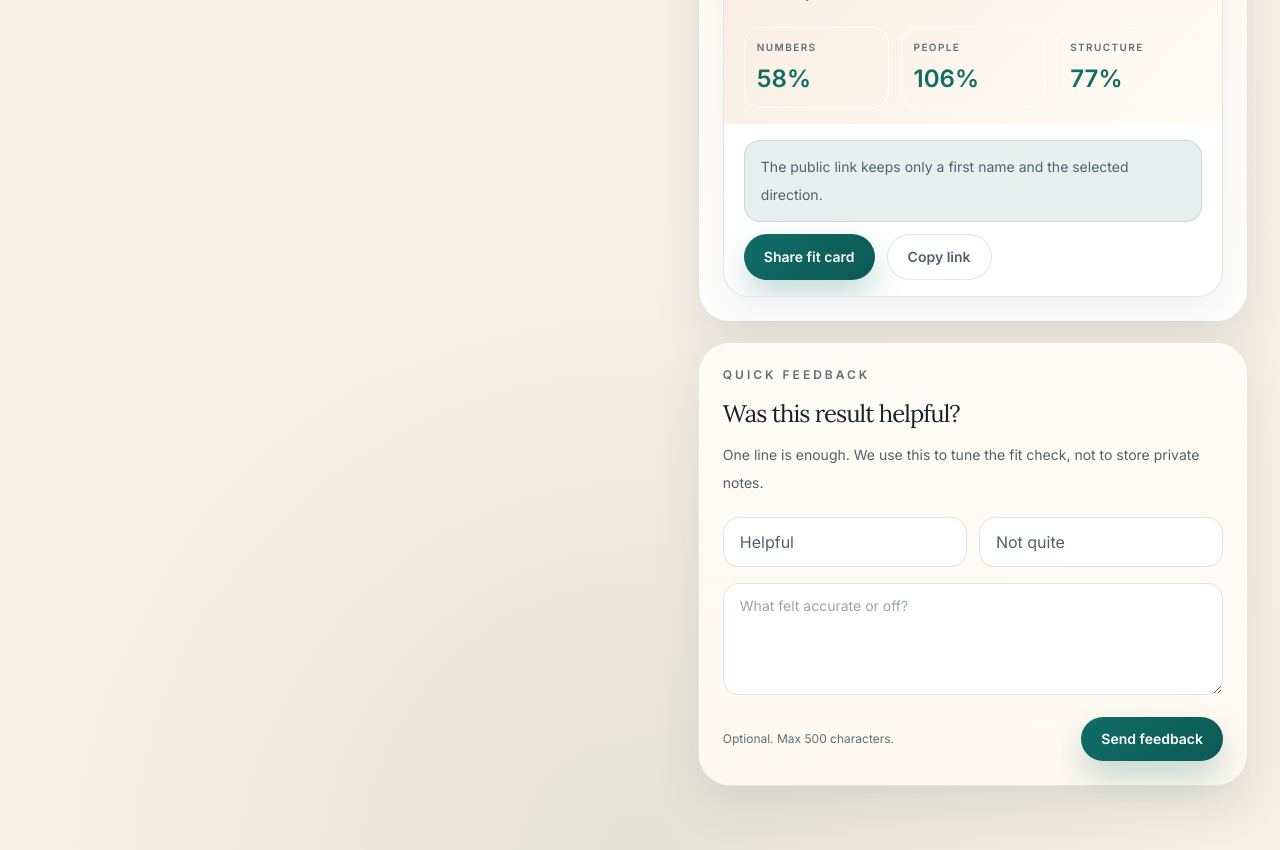
Results page feedback capture › captures a feedback response and reflects the saved choice
(page scrolled)
Click the button "Not quite".
click(1101, 542)  # box 979,517 -> 1223,567
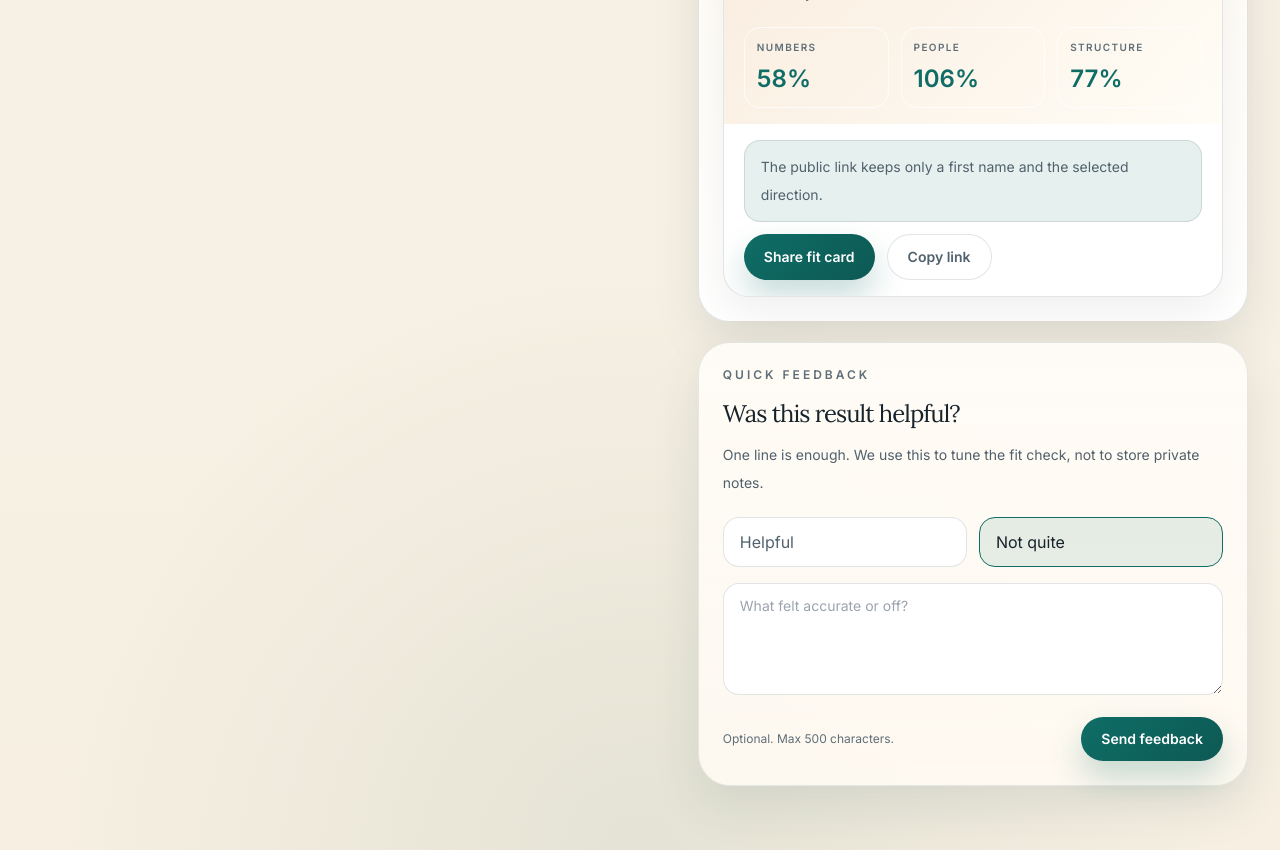
Click the button "Send feedback".
click(1152, 739)  # box 1081,717 -> 1223,761
(page scrolled)
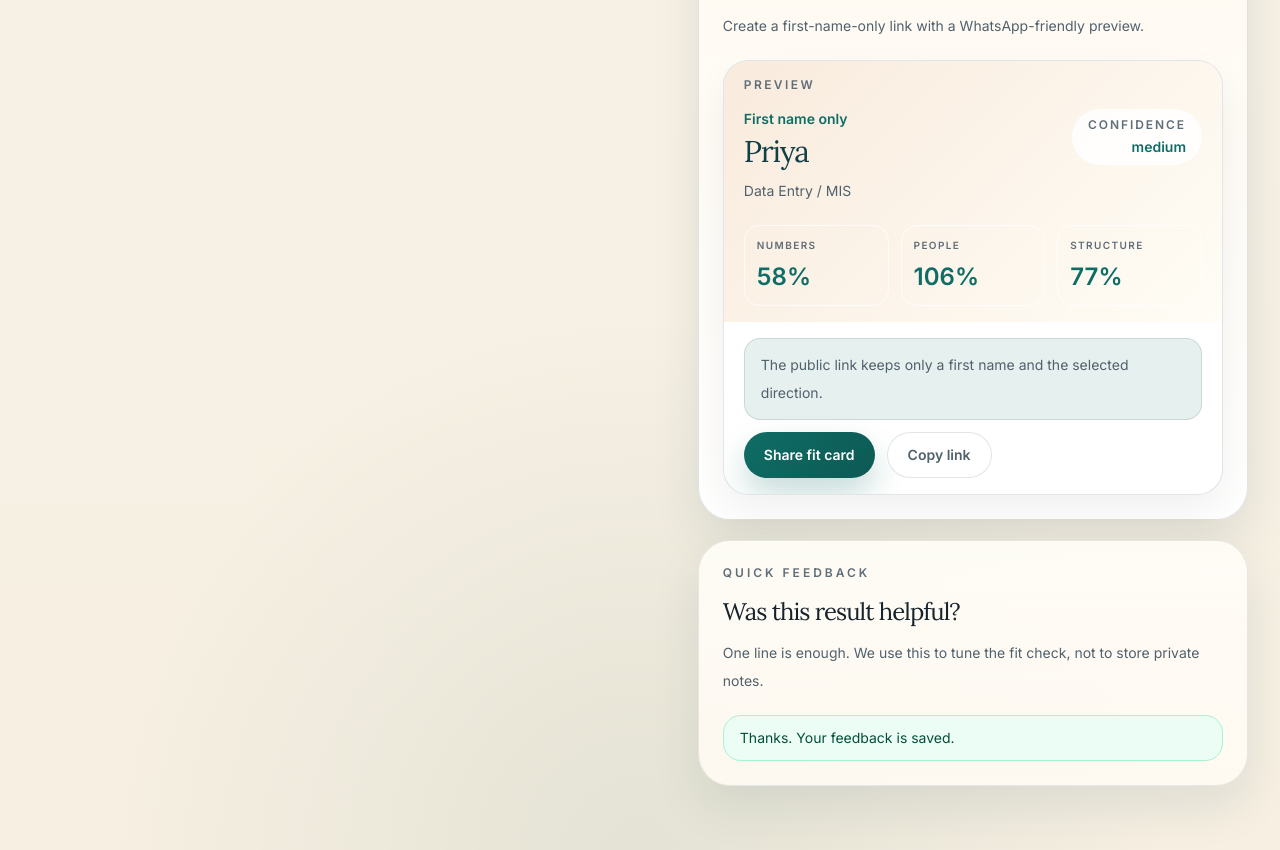
Now the text "Thanks. Your feedback is saved." is shown, box 723,715 -> 1223,761
